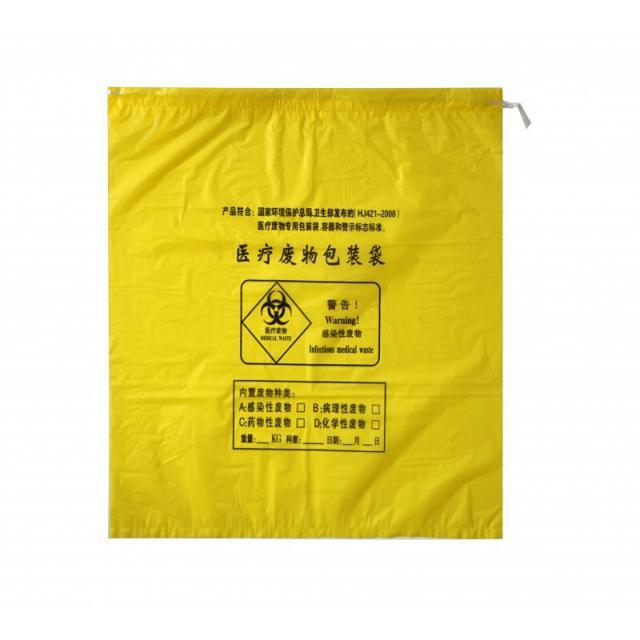waste: (103, 88, 504, 541)
